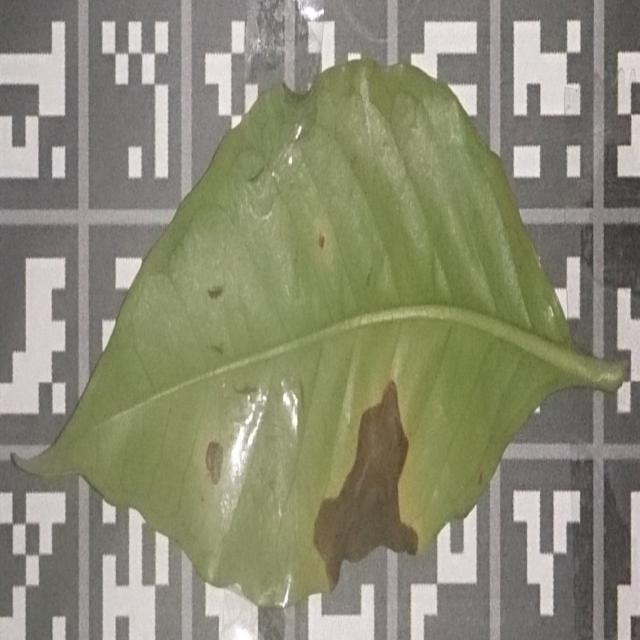Enfermedad-Mancha-de-hierro: (14, 56, 629, 612)
